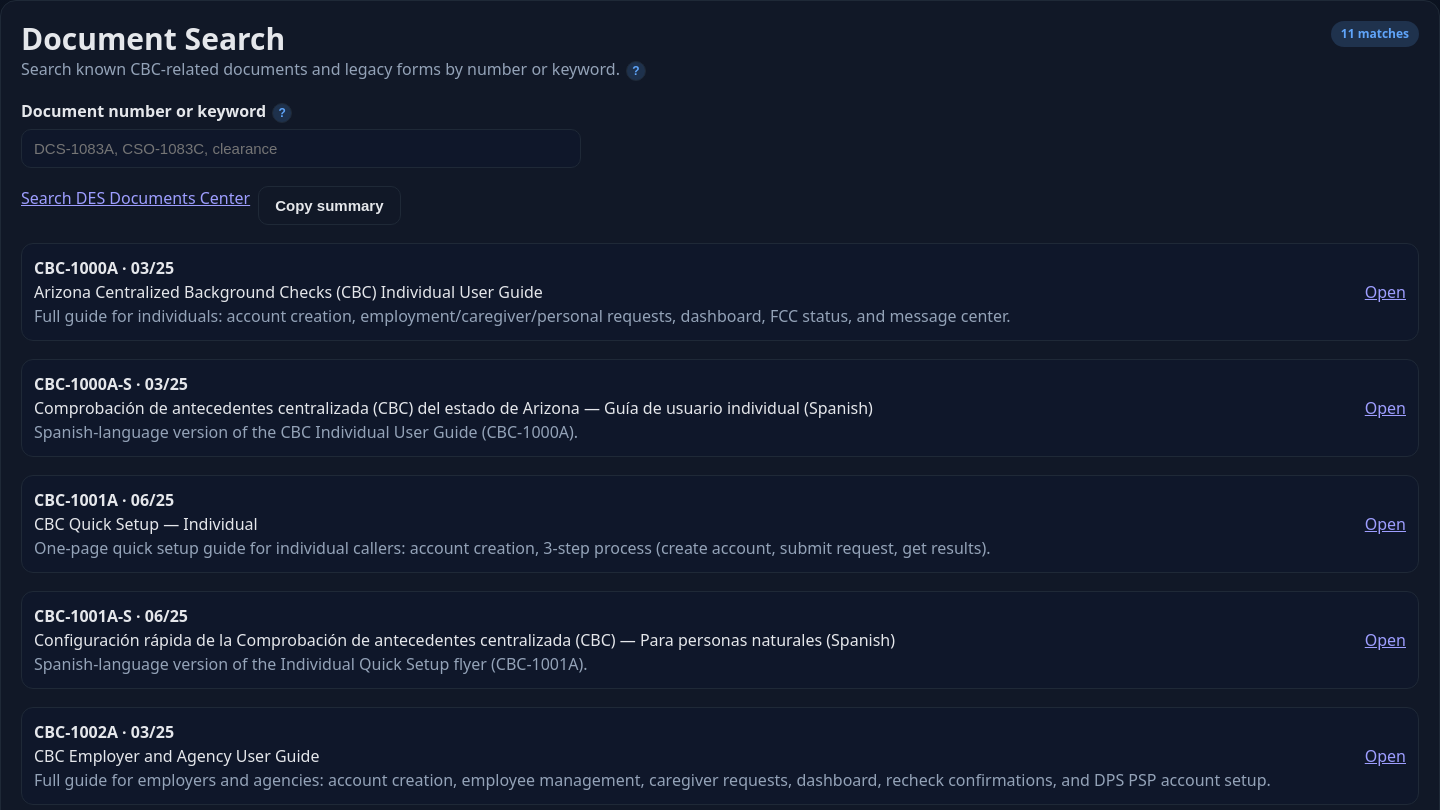
Test case: CBCDocumentSearchPage › filtering with no match shows empty state
This screenshot has width=1440, height=810.
In the field labelled "Document number or keyword ?": {"x": 301, "y": 148} 21,129 -> 581,168, type "ZZZNOMATCH99"
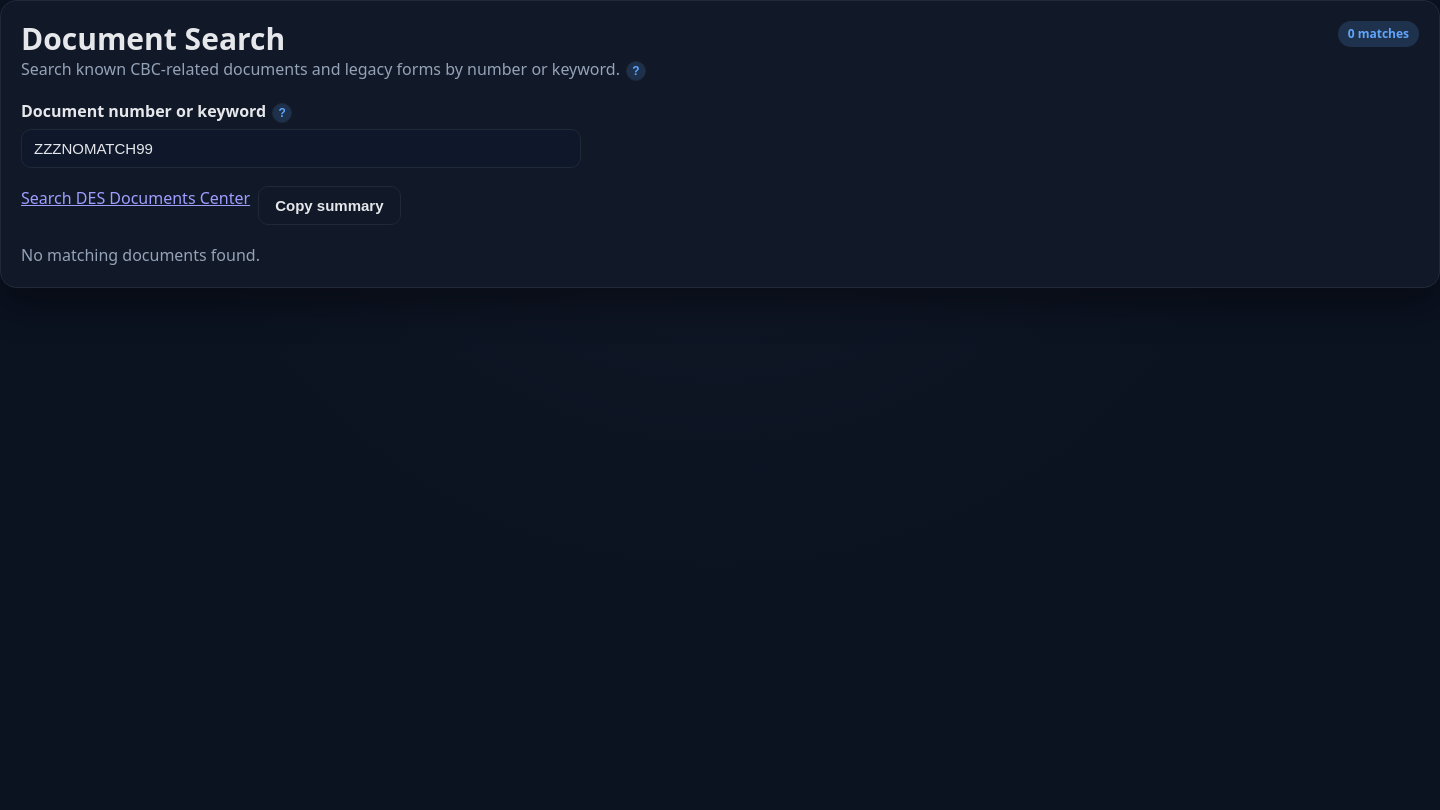
Result: the text "No matching documents found." is shown at 21,244 -> 260,266
